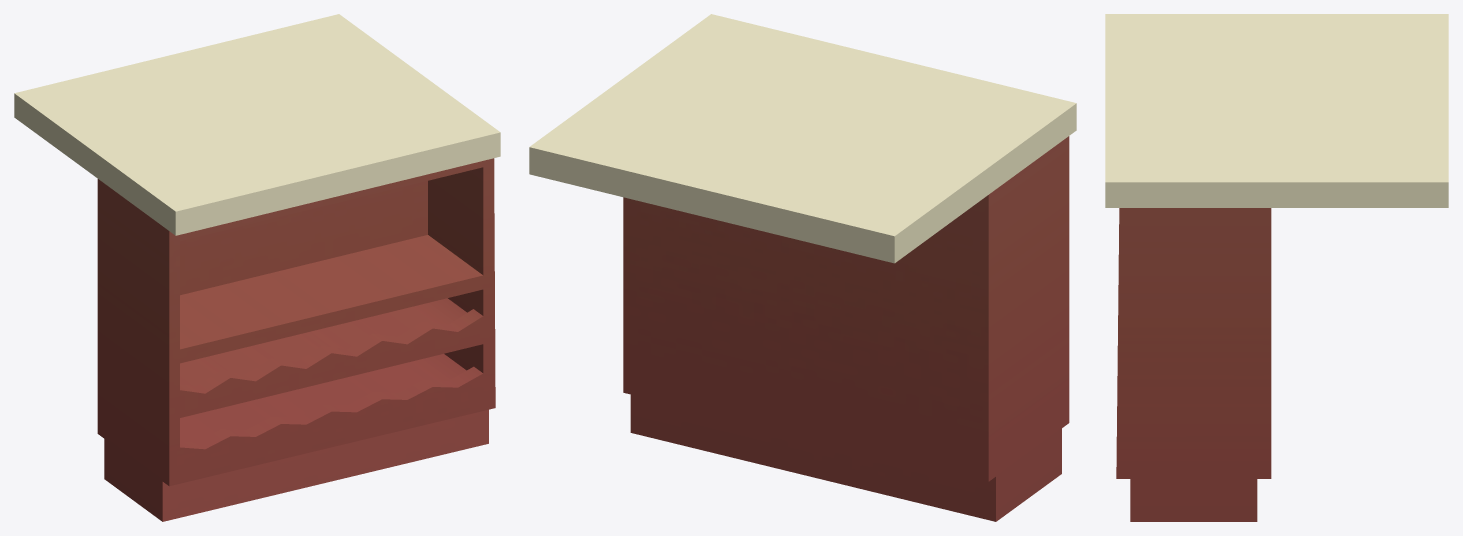
Rendered from SM_Cabinet_Island_5_04.fbx.
3 views of the same model, side by side, from view 1: azimuth 30°, elevation 25°; view 2: azimuth 150°, elevation 25°; view 3: azimuth 270°, elevation 25° (orthographic). The views are drawn at different scales.
Visible parts, largest first — view 1: SM_Cabinet_Island_5_04; view 2: SM_Cabinet_Island_5_04; view 3: SM_Cabinet_Island_5_04.
Part boxes in pixels (x1,y1,x2,y2): SM_Cabinet_Island_5_04: (14,14,500,521); SM_Cabinet_Island_5_04: (529,14,1076,521); SM_Cabinet_Island_5_04: (1105,14,1448,521).
Size of the model in its own units: 114 by 107 by 98.41.
